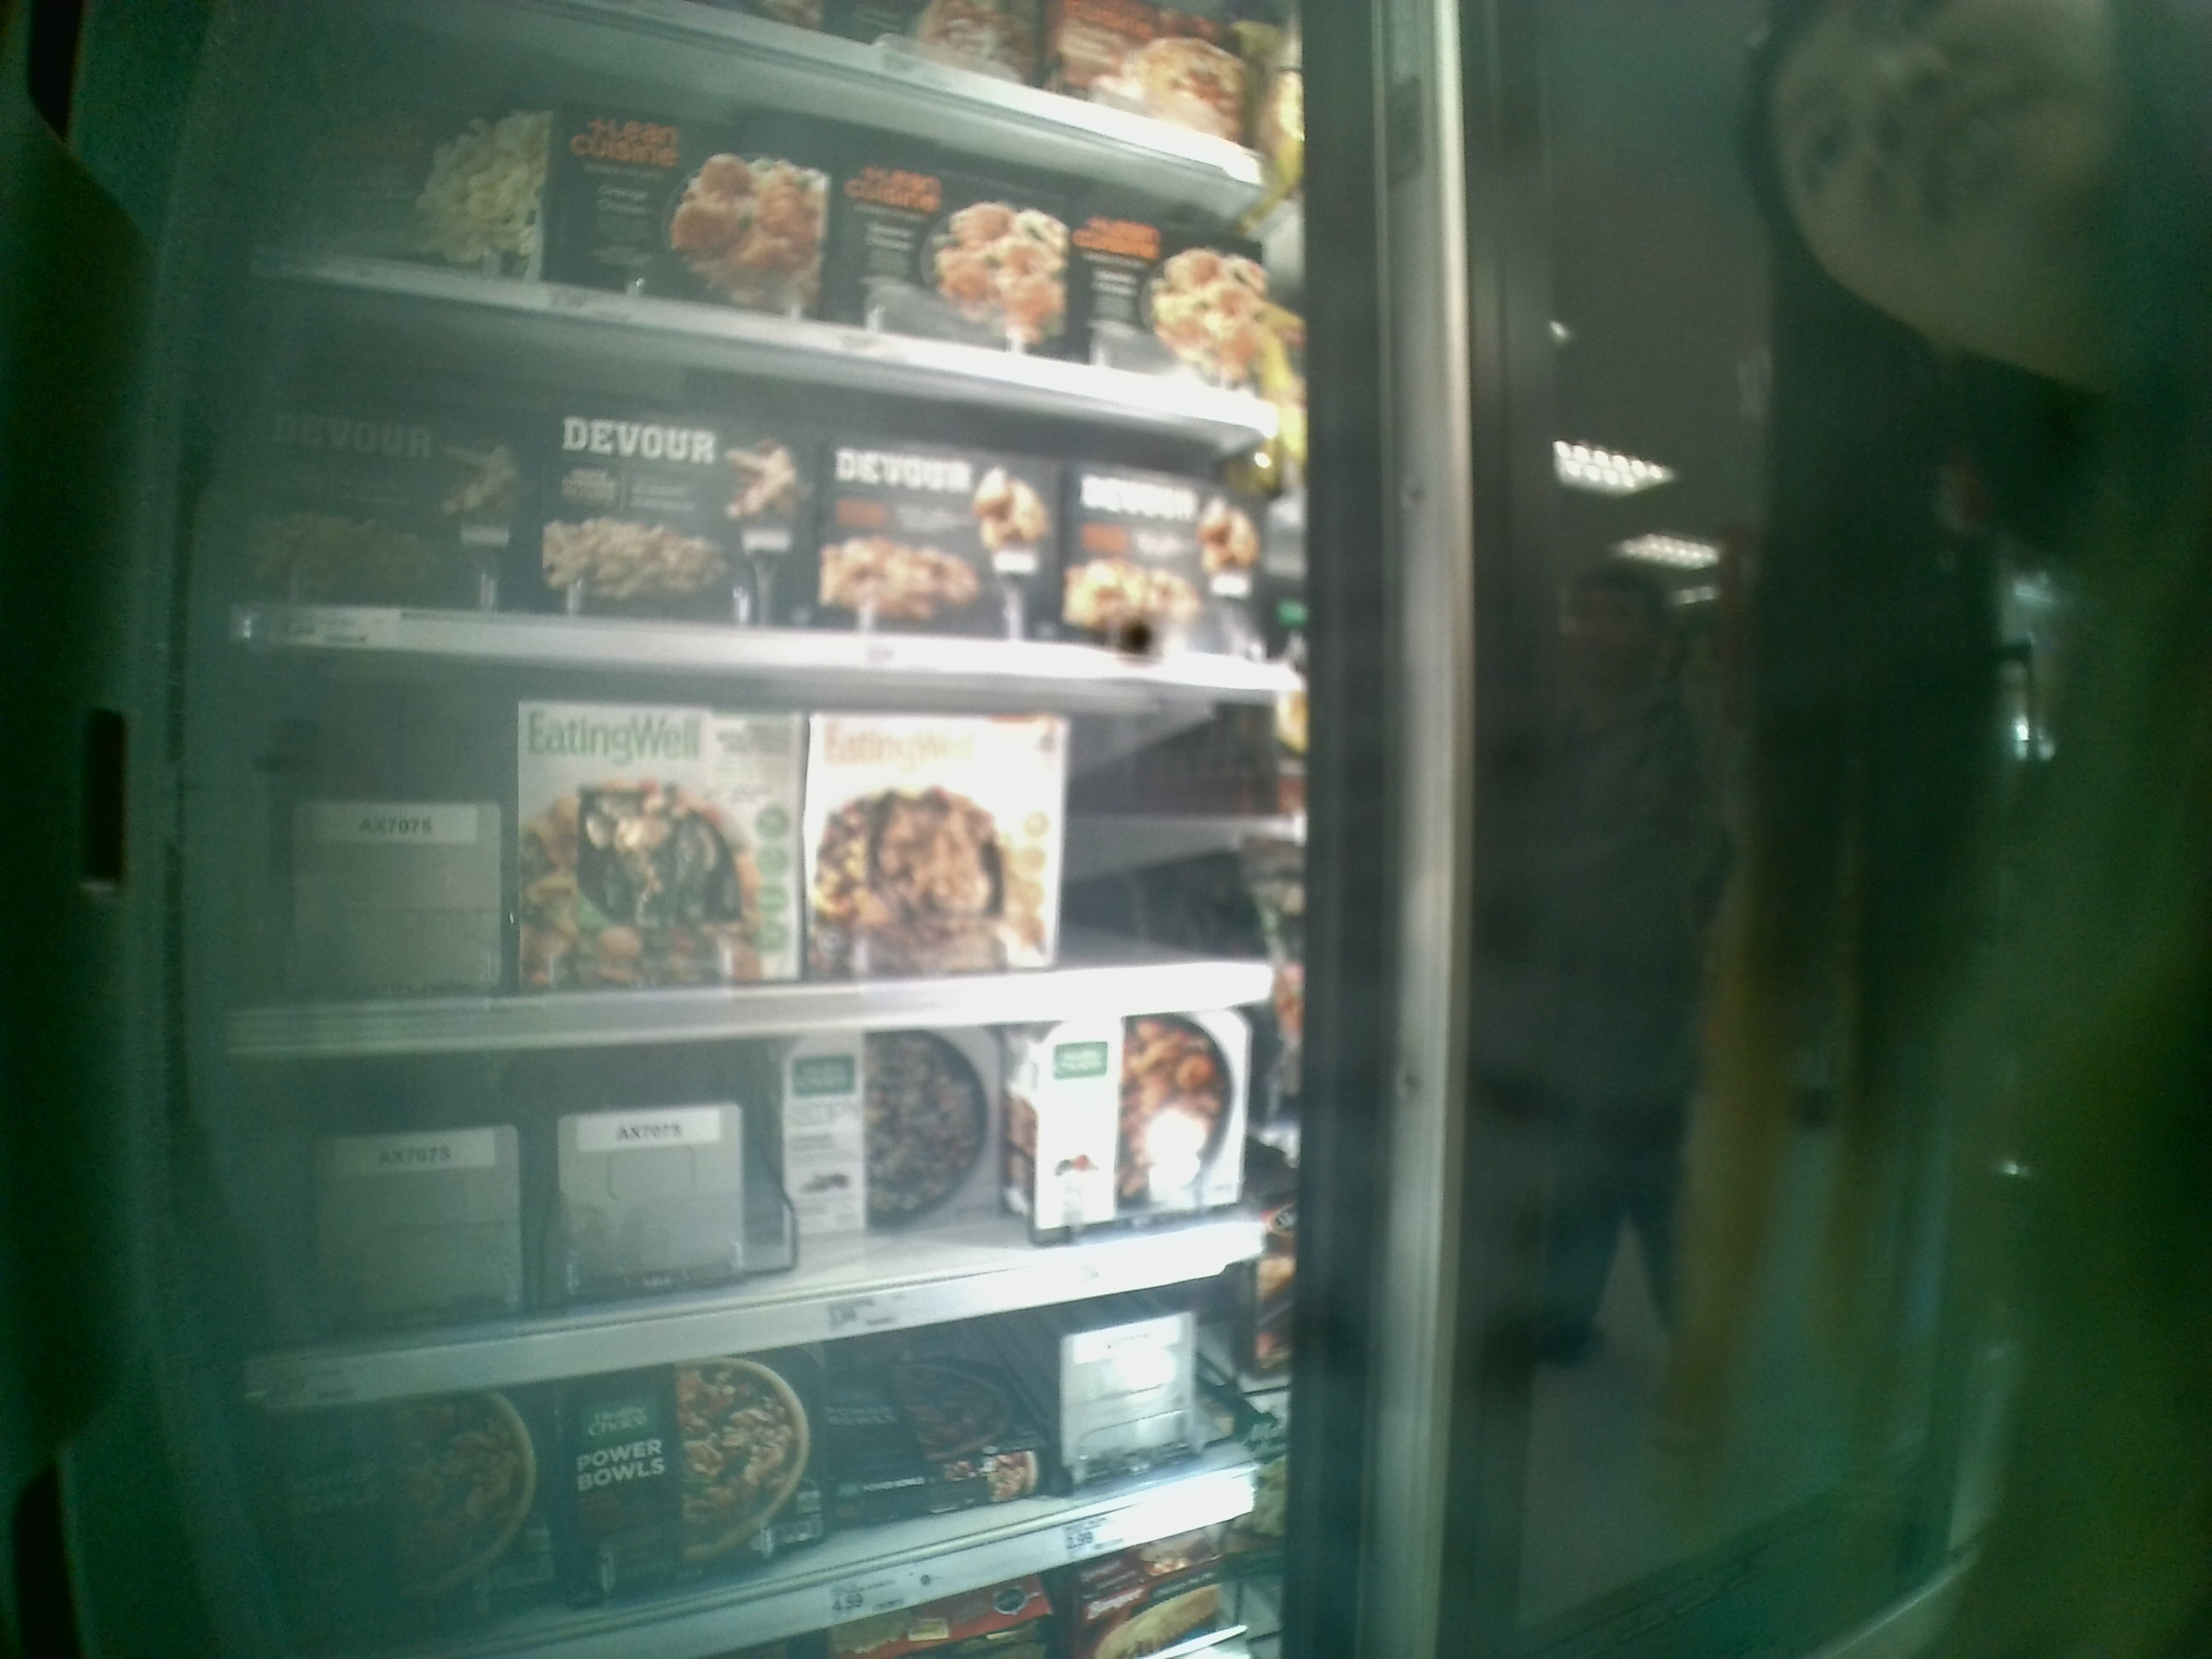shelf: (221, 638, 1318, 1047)
